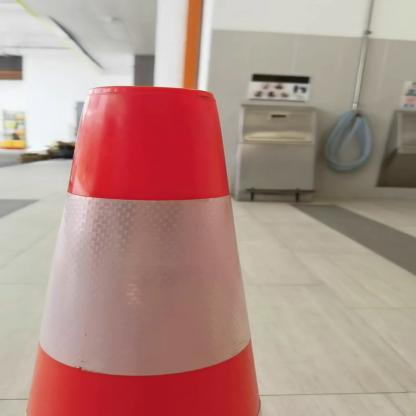cone: (17, 83, 286, 416)
